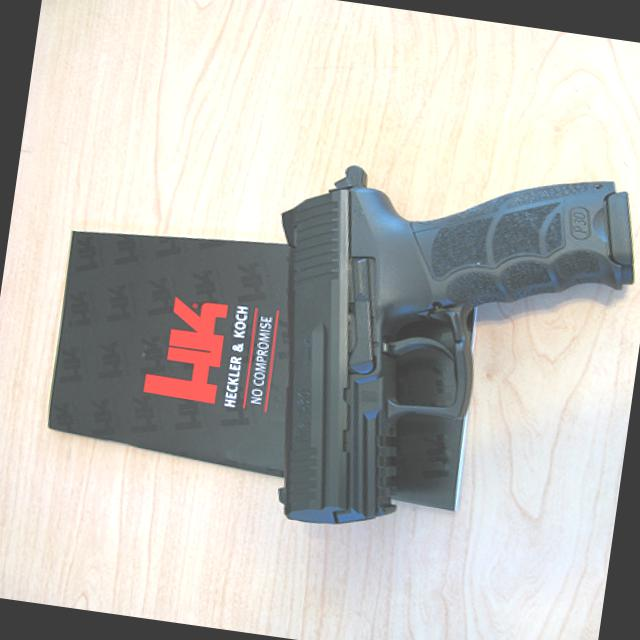handgun: (238, 123, 636, 567)
